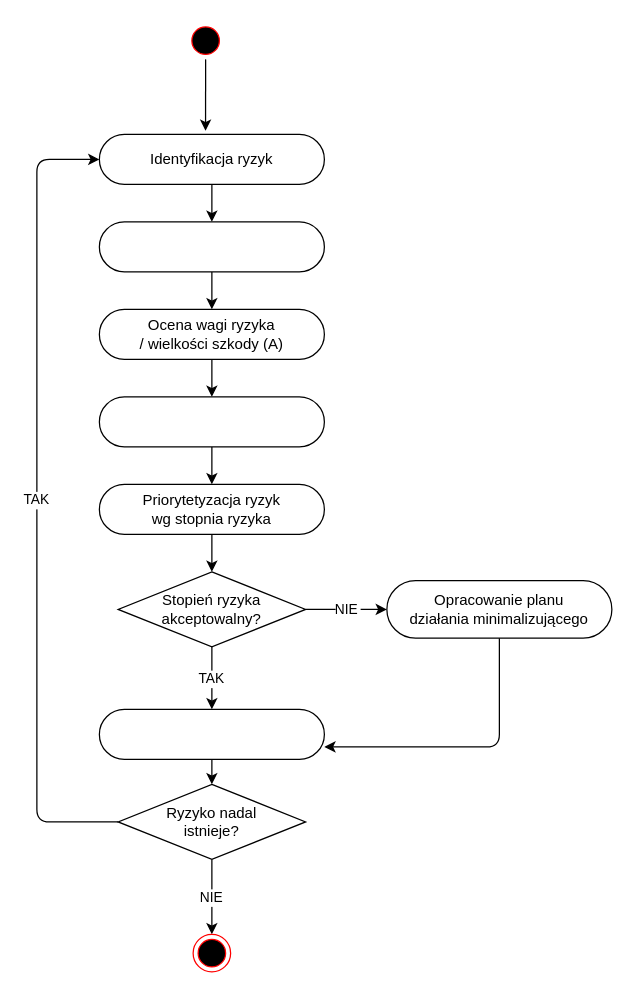
The diagram is 634 pixels wide and 994 high, and some of its shapes have lost their labels. Here are the shapes that lost their labels. From the top down, the centre of each, then its label:
At (211,246): "Ocena prawdopodobieństwa ryzyka (B)".
At (211,421): "Obliczenie stopnia ryzyka (A × B)".
At (211,733): "Monitorowanie ryzyk (cykliczne)".
